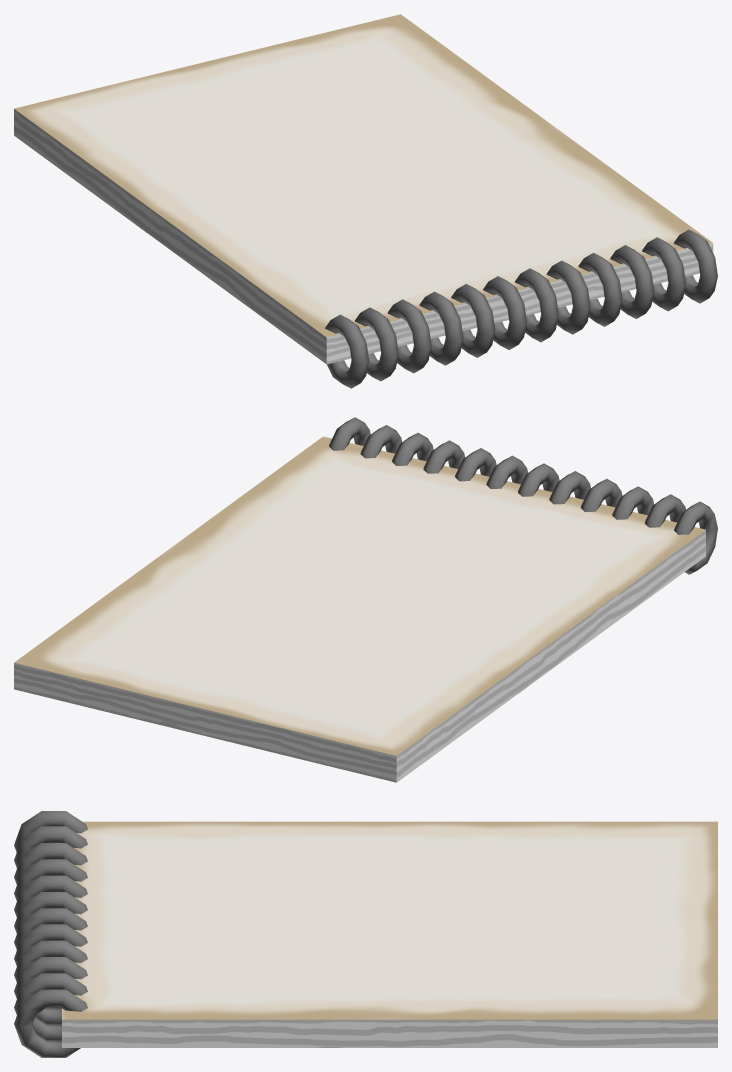
The model's file is notizblock.FBX.
3 views of the same model, one above another, from view 1: azimuth 30°, elevation 25°; view 2: azimuth 150°, elevation 25°; view 3: azimuth 270°, elevation 25° (orthographic). The views are drawn at different scales.
Parts seen in each view (by area): view 1: Box001; view 2: Box001; view 3: Box001.
Part boxes in pixels (x1,y1,x2,y2): Box001: [14, 14, 717, 388]; Box001: [14, 417, 717, 782]; Box001: [14, 811, 717, 1057].
Size of the model in its own units: 5.91 by 0.9553 by 8.87.
